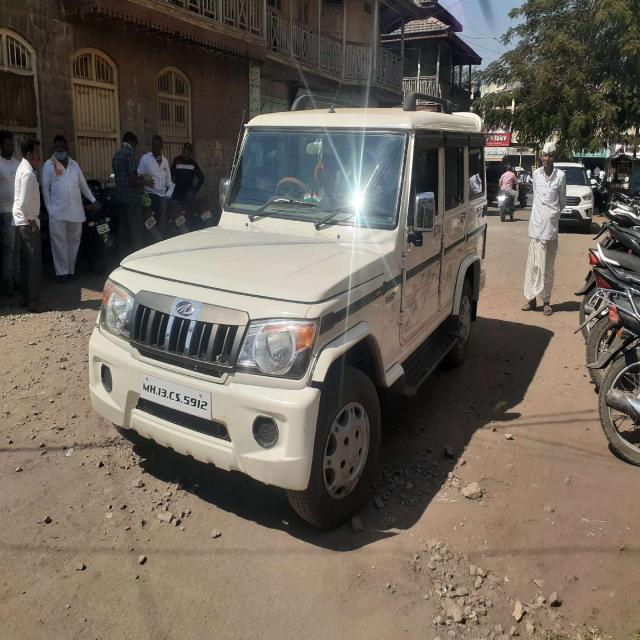light_vehicle: (85, 118, 491, 448)
